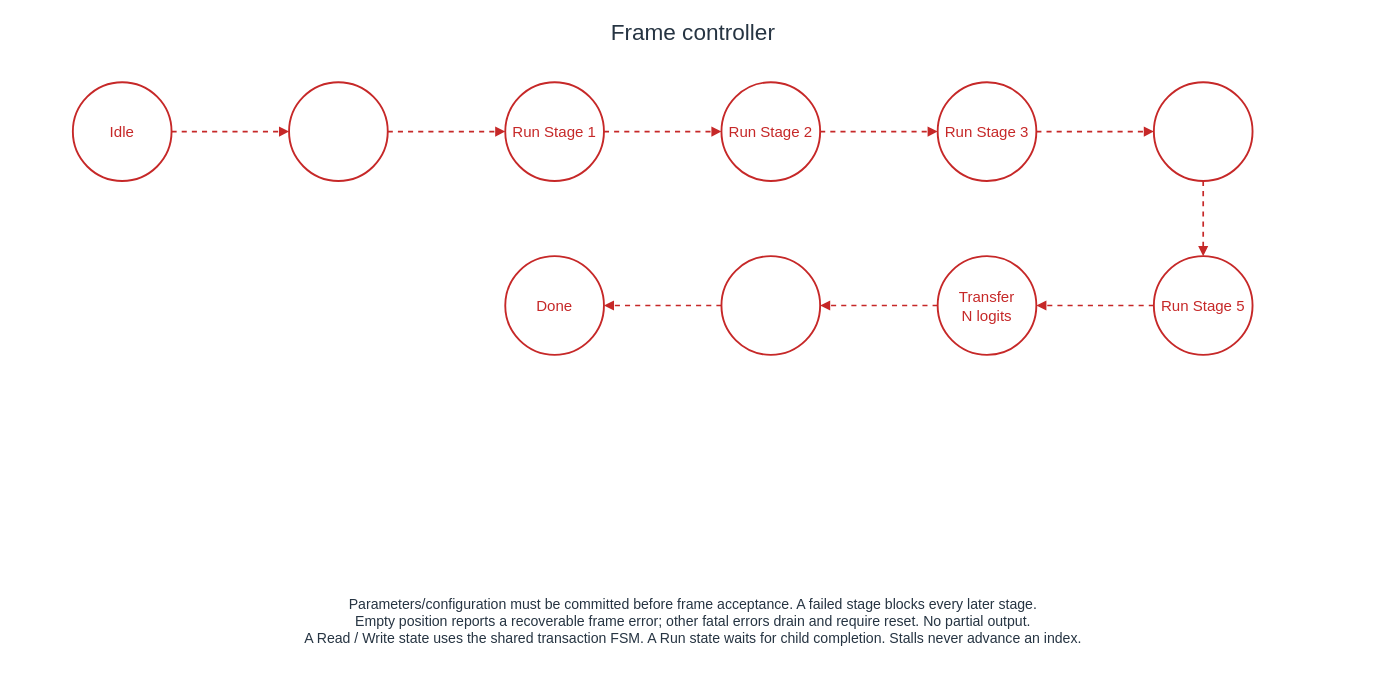
This 1386x676 diagram has some shape labels left out. Each missing label, with the centre of its shape:
"Hold frame completion" belongs at pixel 770 305.
"Load frame features / mask" belongs at pixel 338 131.
"Run Stage 4" belongs at pixel 1202 131.
